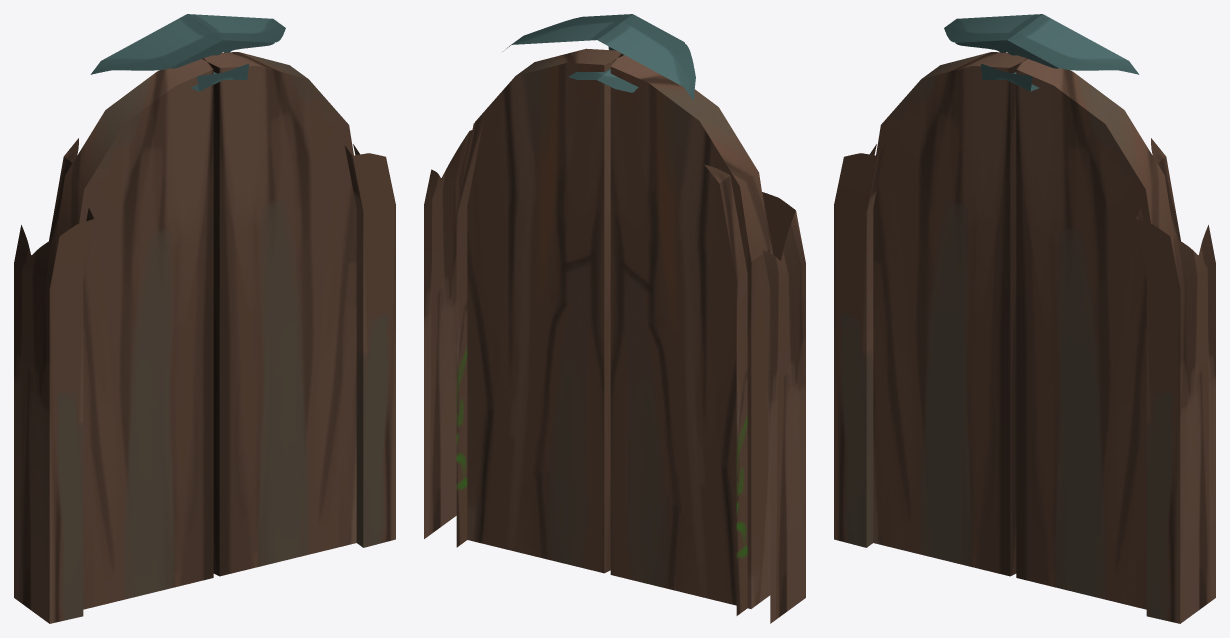
Rendered from regularDoor_MESH_v2.fbx.
The picture shows the model from 3 angles, left to right: view 1: azimuth 30°, elevation 25°; view 2: azimuth 150°, elevation 25°; view 3: azimuth 330°, elevation 25°; orthographic projection.
Visible parts, largest first — view 1: leftDoor, rightDoor, doorFrame; view 2: rightDoor, leftDoor, doorFrame; view 3: rightDoor, leftDoor, doorFrame.
Part boxes in pixels (box(x1,y1,x2,y2)): leftDoor: box(202, 52, 356, 576); rightDoor: box(56, 59, 213, 609); doorFrame: box(14, 14, 395, 623); rightDoor: box(610, 55, 770, 608); leftDoor: box(467, 48, 623, 573); doorFrame: box(424, 14, 805, 623); rightDoor: box(873, 52, 1027, 576); leftDoor: box(1016, 59, 1173, 609); doorFrame: box(834, 14, 1215, 623).
Bounding box in the file's own units: 12.36 × 18.47 × 2.28.
